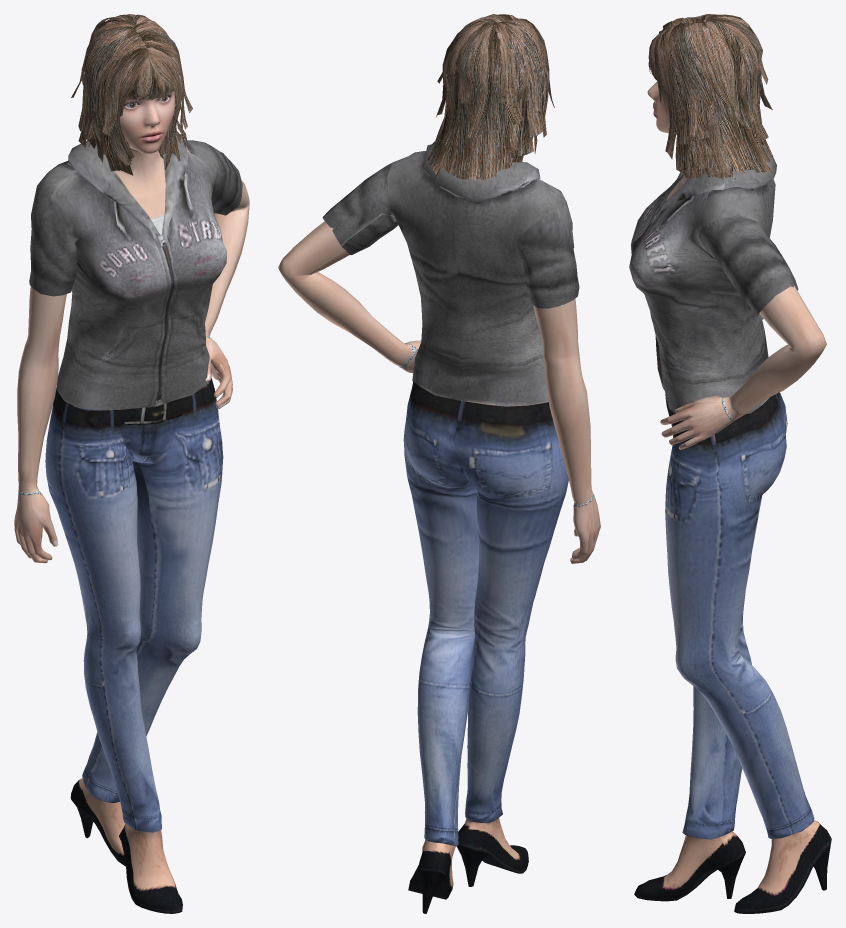
The model's file is woman1.fbx.
The picture shows the model from 3 angles, left to right: view 1: azimuth 30°, elevation 25°; view 2: azimuth 150°, elevation 25°; view 3: azimuth 270°, elevation 25°; orthographic projection.
Parts seen in each view (by area): view 1: Female3_1; view 2: Female3_1; view 3: Female3_1.
Boxes of the visible parts, bbox=[...] form: Female3_1: bbox=[14, 14, 249, 913]; Female3_1: bbox=[278, 14, 600, 913]; Female3_1: bbox=[629, 14, 831, 913].
Bounding box in the file's own units: 5783 × 17655 × 3694.
